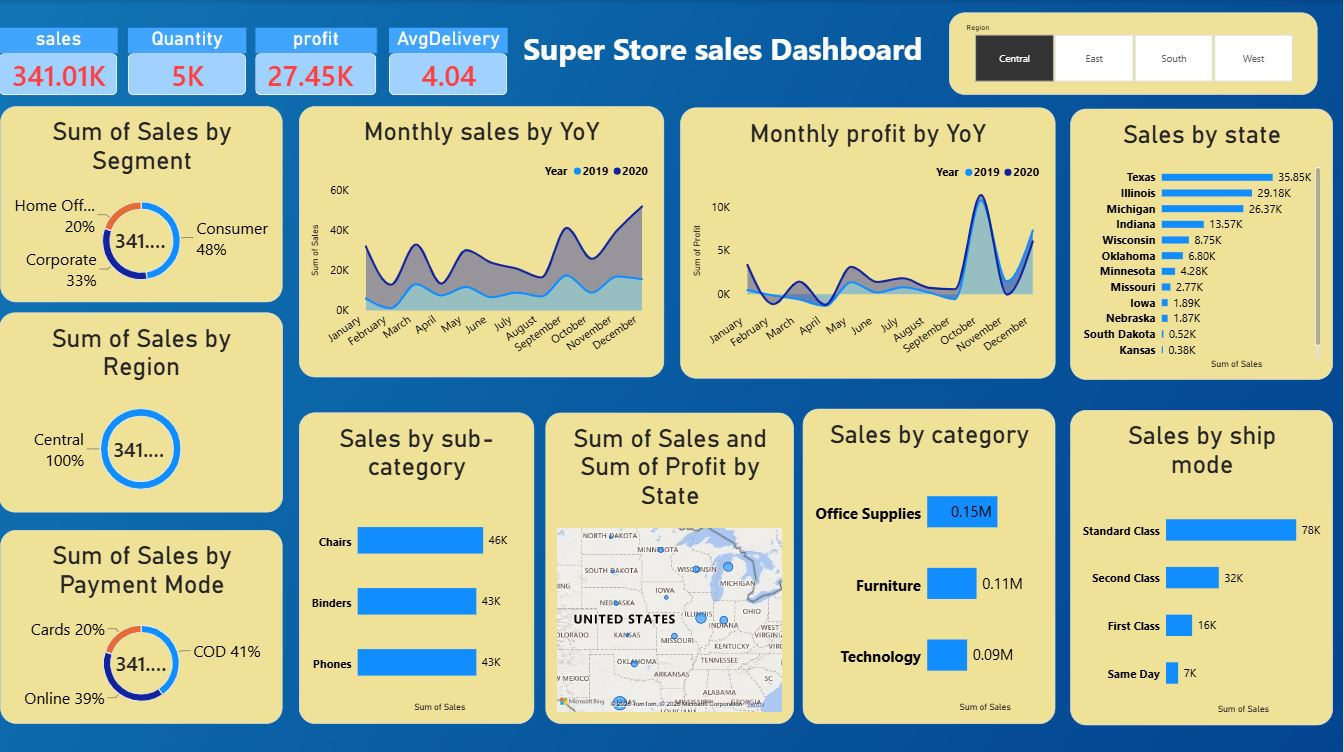

The dashboard page shown, as its layout file describes it:
{"tool":"powerbi","page":{"name":"Page 1","canvas":[1920,1080],"ordinal":0},"visuals":[{"type":"clusteredBarChart","title":"Sales by category","fields":{"Category":["SuperStore_Sales_Dataset.Category"],"Y":["Sum(SuperStore_Sales_Dataset.Sales)"]},"box":[1148.2,583.9,360.7,450],"z":0},{"type":"clusteredBarChart","title":"Sales by sub- category","fields":{"Category":["SuperStore_Sales_Dataset.Sub-Category"],"Y":["Sum(SuperStore_Sales_Dataset.Sales)"]},"box":[428.6,589.3,335.7,444.6],"z":1000},{"type":"clusteredBarChart","title":"Sales by ship mode","fields":{"Category":["SuperStore_Sales_Dataset.Ship Mode"],"Y":["Sum(SuperStore_Sales_Dataset.Sales)"]},"box":[1530.4,585.7,375,450],"z":2000},{"type":"stackedAreaChart","title":"Monthly sales by YoY","fields":{"Category":["SuperStore_Sales_Dataset.Order Date.Variation.Date Hierarchy.Month","SuperStore_Sales_Dataset.Order Date.Variation.Date Hierarchy.Day"],"Series":["SuperStore_Sales_Dataset.Order Date.Variation.Date Hierarchy.Year"],"Y":["Sum(SuperStore_Sales_Dataset.Sales)"]},"box":[428.6,151.8,521.4,387.5],"z":3000},{"type":"stackedAreaChart","title":"Monthly profit by YoY","fields":{"Category":["SuperStore_Sales_Dataset.Order Date.Variation.Date Hierarchy.Month","SuperStore_Sales_Dataset.Order Date.Variation.Date Hierarchy.Day"],"Series":["SuperStore_Sales_Dataset.Order Date.Variation.Date Hierarchy.Year"],"Y":["Sum(SuperStore_Sales_Dataset.Profit)"]},"box":[973.2,153.6,535.7,387.5],"z":4000},{"type":"map","fields":{"Category":["SuperStore_Sales_Dataset.State"],"Size":["Sum(SuperStore_Sales_Dataset.Sales)"]},"box":[780.4,589.3,355.4,444.6],"z":5000},{"type":"donutChart","fields":{"Category":["SuperStore_Sales_Dataset.Segment"],"Y":["Sum(SuperStore_Sales_Dataset.Sales)"]},"box":[1.8,151.8,403.6,280.4],"z":6000},{"type":"donutChart","fields":{"Category":["SuperStore_Sales_Dataset.Payment Mode"],"Y":["Sum(SuperStore_Sales_Dataset.Sales)"]},"box":[1.8,757.1,403.6,276.8],"z":7000},{"type":"donutChart","fields":{"Category":["SuperStore_Sales_Dataset.Region"],"Y":["Sum(SuperStore_Sales_Dataset.Sales)"]},"box":[0,446.4,405.4,285.7],"z":8000},{"type":"slicer","fields":{"Values":["SuperStore_Sales_Dataset.Region"]},"box":[1357.1,17.9,526.8,117.9],"z":9000},{"type":"textbox","box":[726.8,39.3,614.3,75],"z":10000},{"type":"cardVisual","title":"sales","fields":{"Data":["Sum(SuperStore_Sales_Dataset.Sales)"]},"box":[0,39.3,169.6,96.4],"z":11000},{"type":"cardVisual","title":"Quantity","fields":{"Data":["Sum(SuperStore_Sales_Dataset.Quantity)"]},"box":[183.9,39.3,169.6,96.4],"z":12000},{"type":"cardVisual","title":"profit","fields":{"Data":["Sum(SuperStore_Sales_Dataset.Profit)"]},"box":[366.1,39.3,173.2,96.4],"z":13000},{"type":"cardVisual","title":"AvgDelivery","fields":{"Data":["Avg(SuperStore_Sales_Dataset.AvgDelivery)"]},"box":[557.1,39.3,169.6,96.4],"z":14000},{"type":"clusteredBarChart","title":"Sales by state","fields":{"Category":["SuperStore_Sales_Dataset.State"],"Y":["Sum(SuperStore_Sales_Dataset.Sales)"]},"box":[1530.4,155.4,375,387.5],"z":14001}]}

Visuals, with their boxes in screenshot pixels (x1, y1, x2, y2), scaled from the page's 1920x1080 canvas onto the 1344x752 screenshot:
"Sales by category" clusteredBarChart: pyautogui.locateOnScreen(804, 407, 1056, 720)
"Sales by sub- category" clusteredBarChart: pyautogui.locateOnScreen(300, 410, 535, 720)
"Sales by ship mode" clusteredBarChart: pyautogui.locateOnScreen(1071, 408, 1334, 721)
"Monthly sales by YoY" stackedAreaChart: pyautogui.locateOnScreen(300, 106, 665, 376)
"Monthly profit by YoY" stackedAreaChart: pyautogui.locateOnScreen(681, 107, 1056, 377)
map - SuperStore_Sales_Dataset.State x Sum(SuperStore_Sales_Dataset.Sales): pyautogui.locateOnScreen(546, 410, 795, 720)
donutChart - SuperStore_Sales_Dataset.Segment x Sum(SuperStore_Sales_Dataset.Sales): pyautogui.locateOnScreen(1, 106, 284, 301)
donutChart - SuperStore_Sales_Dataset.Payment Mode x Sum(SuperStore_Sales_Dataset.Sales): pyautogui.locateOnScreen(1, 527, 284, 720)
donutChart - SuperStore_Sales_Dataset.Region x Sum(SuperStore_Sales_Dataset.Sales): pyautogui.locateOnScreen(0, 311, 284, 510)
slicer - SuperStore_Sales_Dataset.Region: pyautogui.locateOnScreen(950, 12, 1319, 95)
textbox: pyautogui.locateOnScreen(509, 27, 939, 80)
"sales" cardVisual: pyautogui.locateOnScreen(0, 27, 119, 94)
"Quantity" cardVisual: pyautogui.locateOnScreen(129, 27, 247, 94)
"profit" cardVisual: pyautogui.locateOnScreen(256, 27, 378, 94)
"AvgDelivery" cardVisual: pyautogui.locateOnScreen(390, 27, 509, 94)
"Sales by state" clusteredBarChart: pyautogui.locateOnScreen(1071, 108, 1334, 378)
